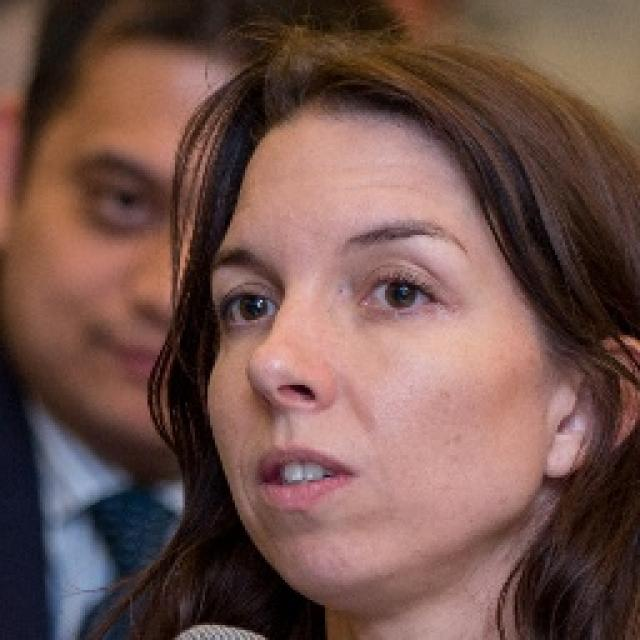earlobe: (543, 428, 584, 481)
eye: (360, 275, 440, 314), (222, 288, 278, 327)
nose: (243, 366, 326, 463)
wholeear: (543, 337, 640, 480)
